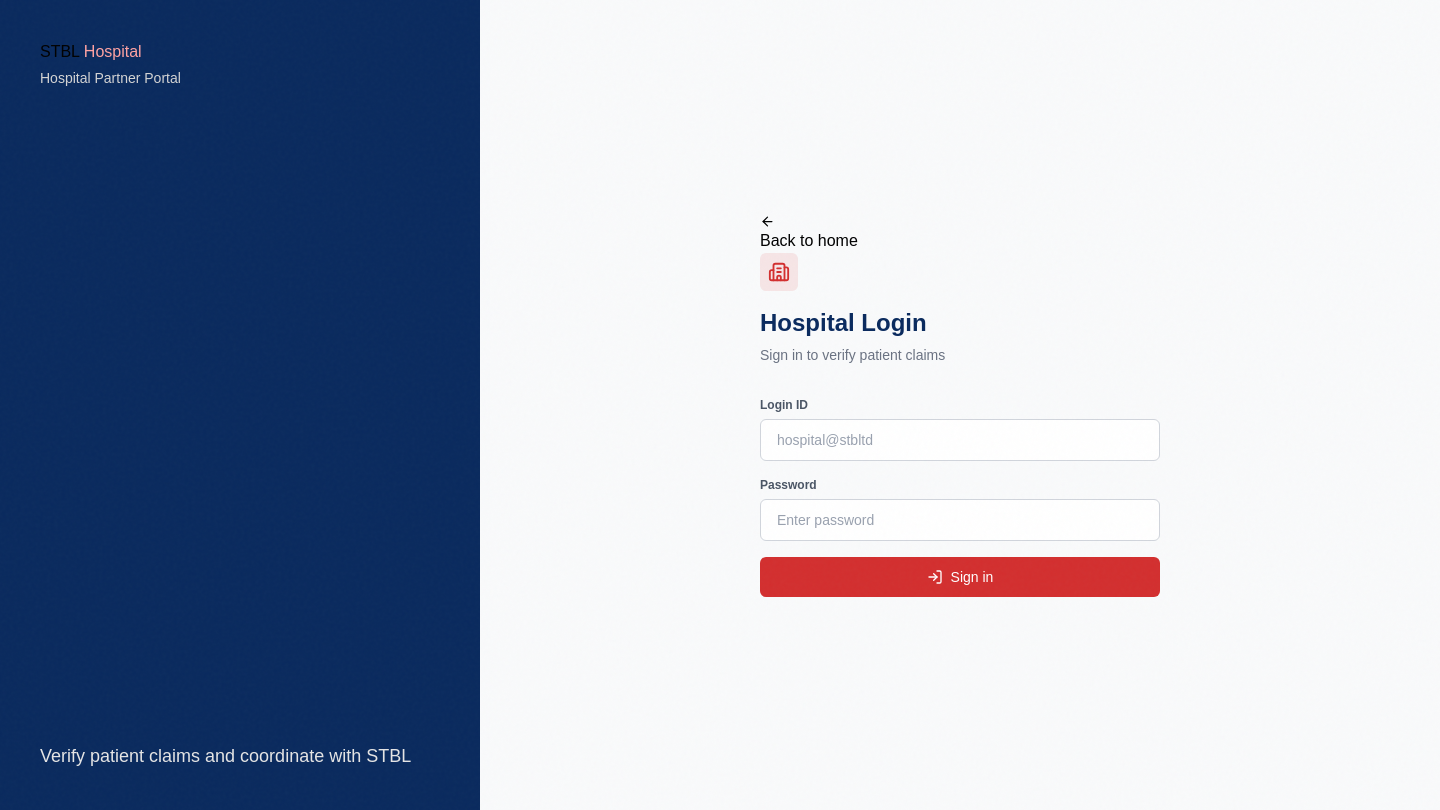
Test: HospitalLoginPage › shows error on failed login
Type "wrong" into the field with placeholder "hospital@stbltd" at (960, 440), box x1=760 y1=418 x2=1160 y2=460
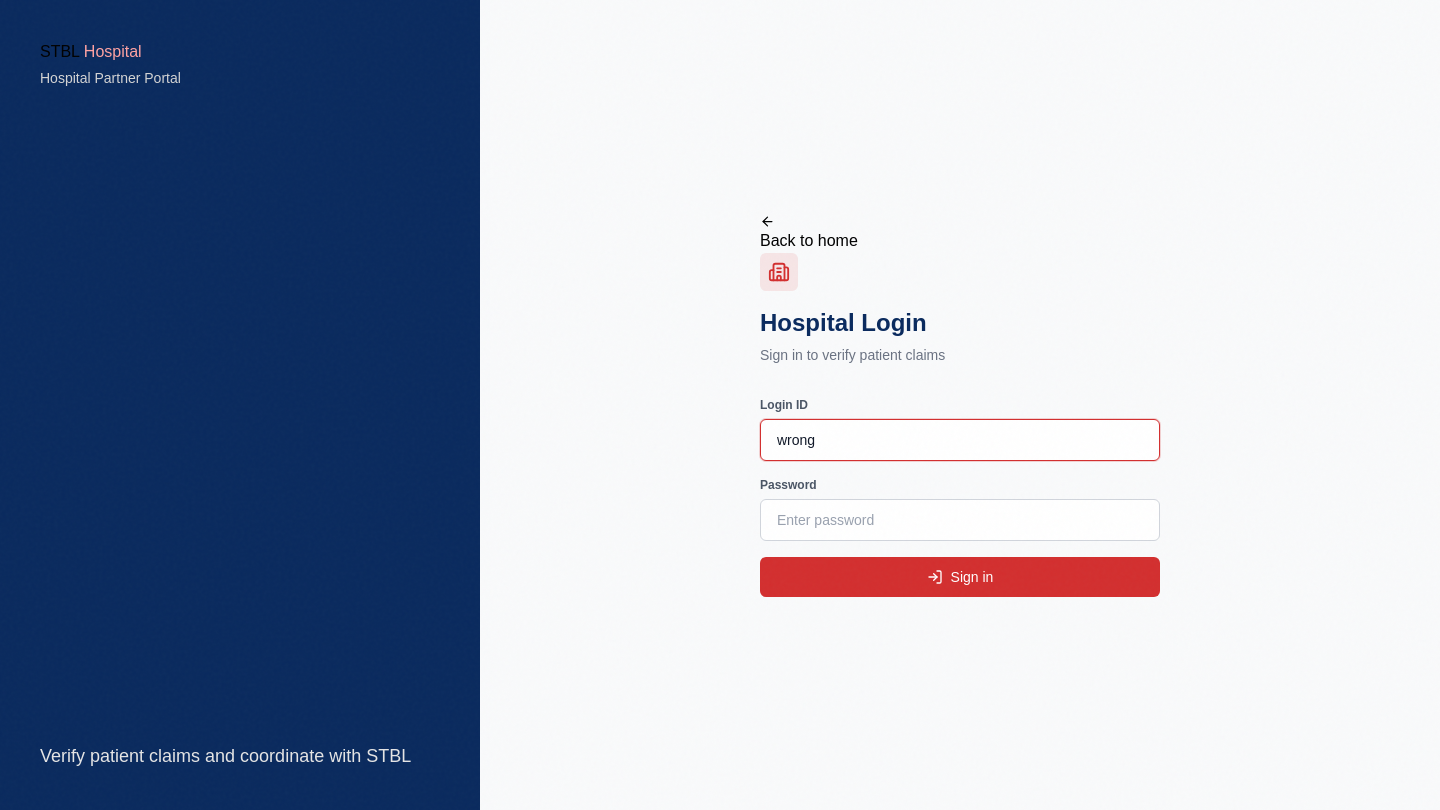
Type "wrong" into the password field with placeholder "Enter password" at (960, 520), box x1=760 y1=498 x2=1160 y2=540
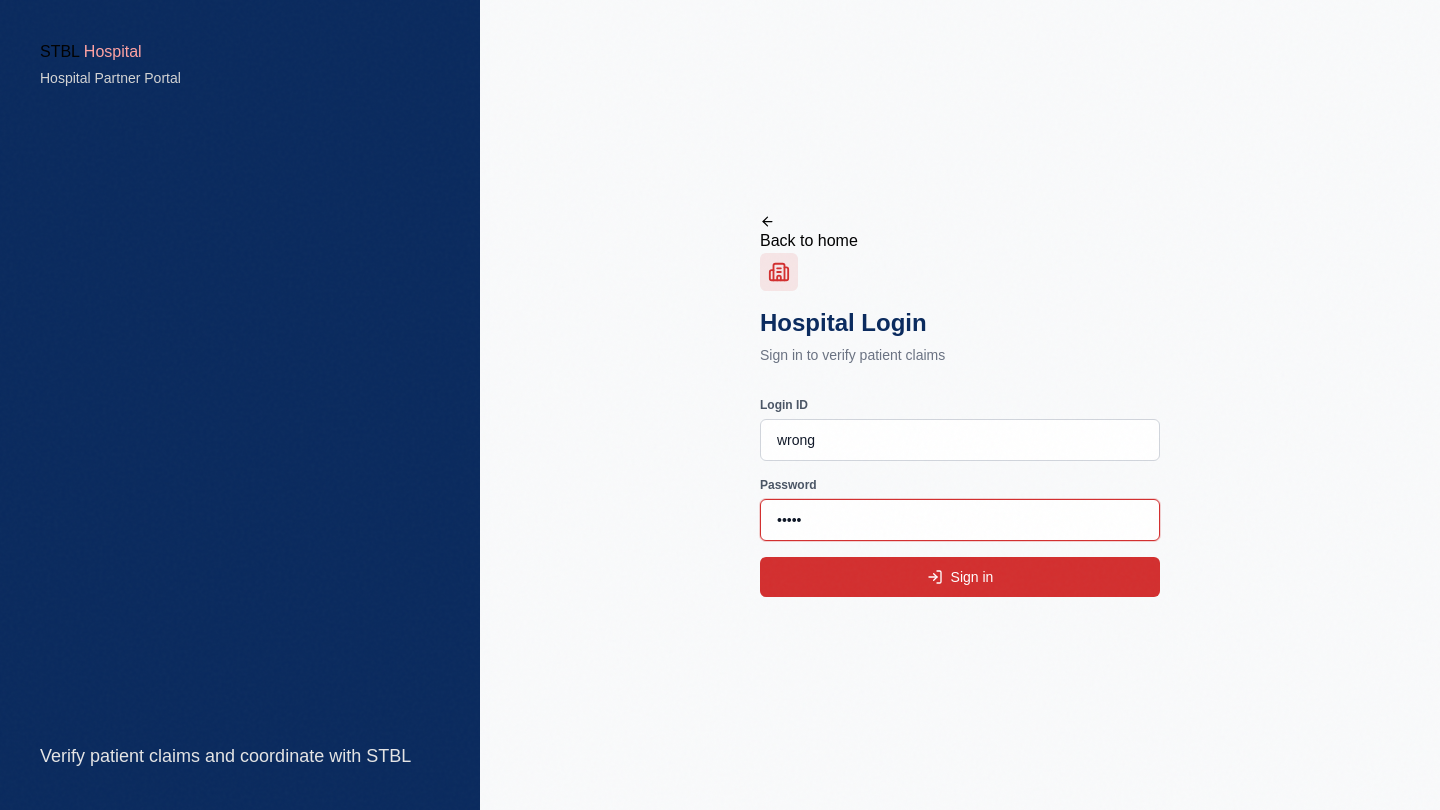
Click the button "Sign in" at (960, 576), box x1=760 y1=556 x2=1160 y2=596
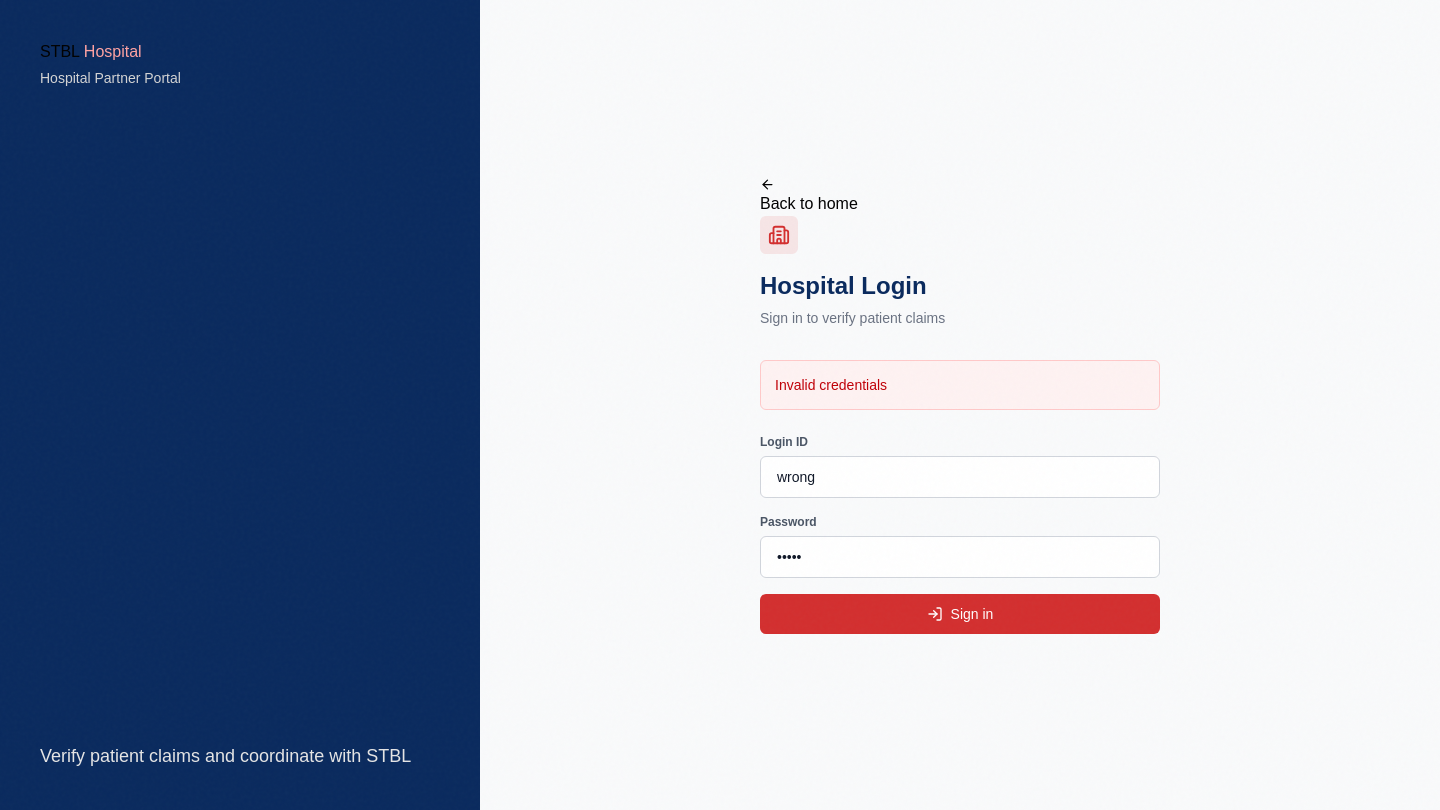
expect the text "Invalid credentials" is shown: met, box x1=760 y1=360 x2=1160 y2=410
